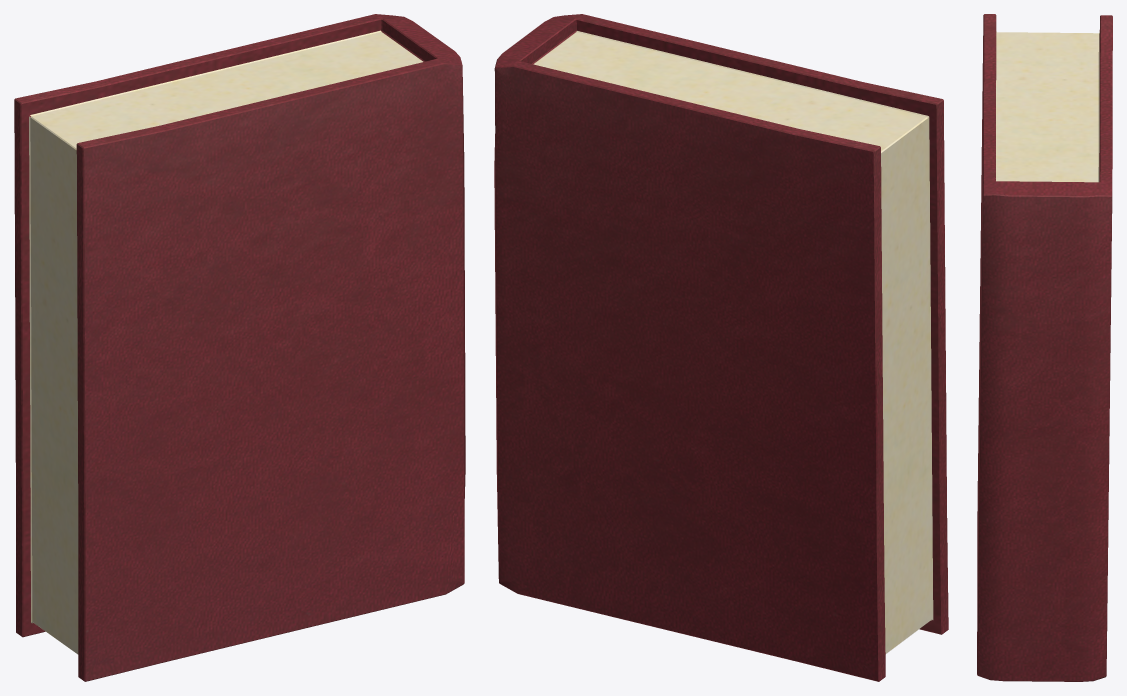
Rendered from smallBookRed.fbx.
3 views of the same model, side by side, from view 1: azimuth 30°, elevation 25°; view 2: azimuth 150°, elevation 25°; view 3: azimuth 270°, elevation 25° (orthographic). The views are drawn at different scales.
Parts seen in each view (by area): view 1: book6; view 2: book6; view 3: book6.
Part boxes in pixels (<box>): book6: <box>14,14,465,681</box>; book6: <box>494,14,948,681</box>; book6: <box>977,14,1112,681</box>.
Bounding box in the file's own units: 16.09 × 20.98 × 5.2.
1 material, 1 textured.
